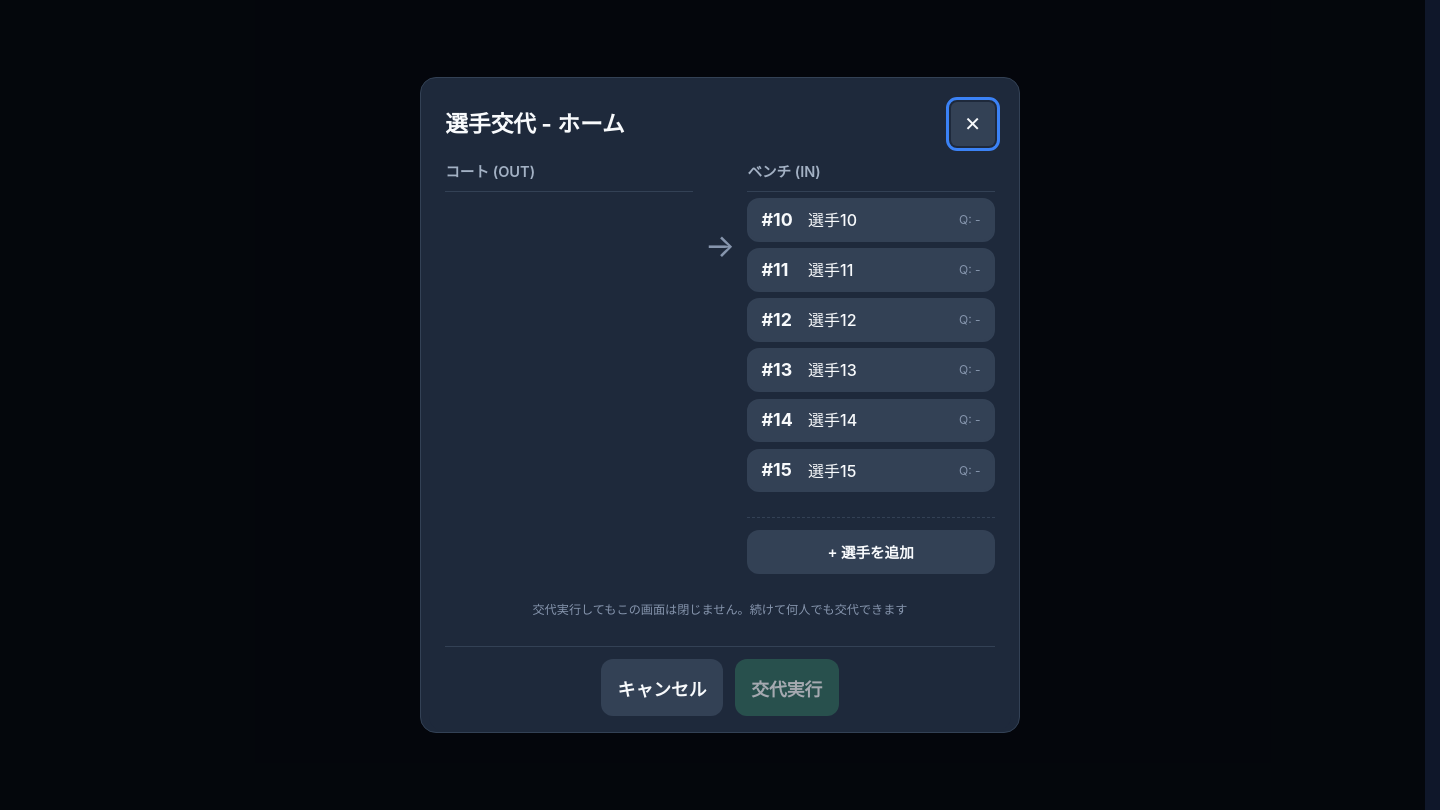
Test: SubstitutionModal: 様式からあふれる選手の案内 › 15人でいちばん大きい番号を入れると、追加する本人が載らないと伝える
Click the button "+ 選手を追加": (871,552) top-left (747, 530), bottom-right (995, 574)
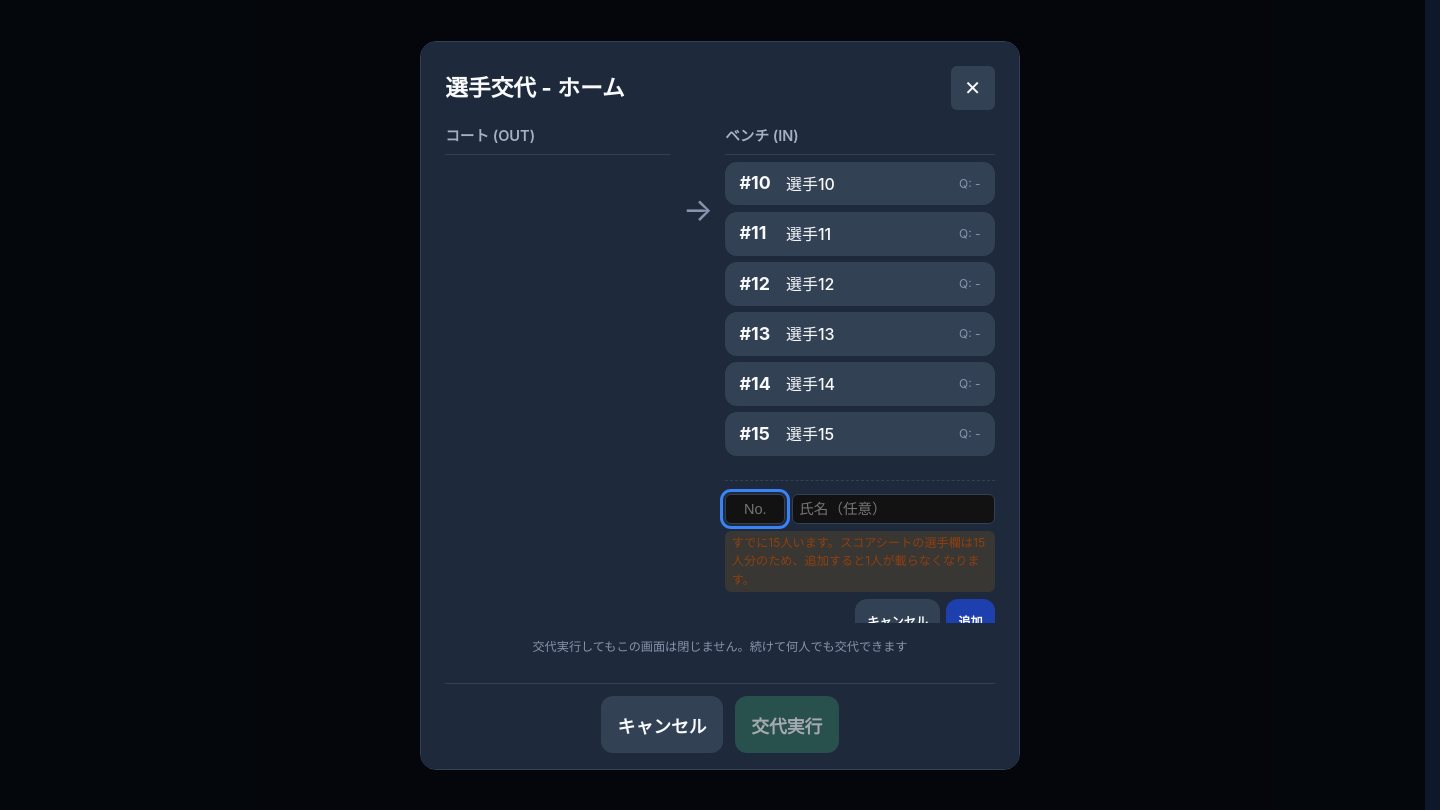
In the field with placeholder "No.": (755,509) top-left (725, 494), bottom-right (785, 524), type "99"
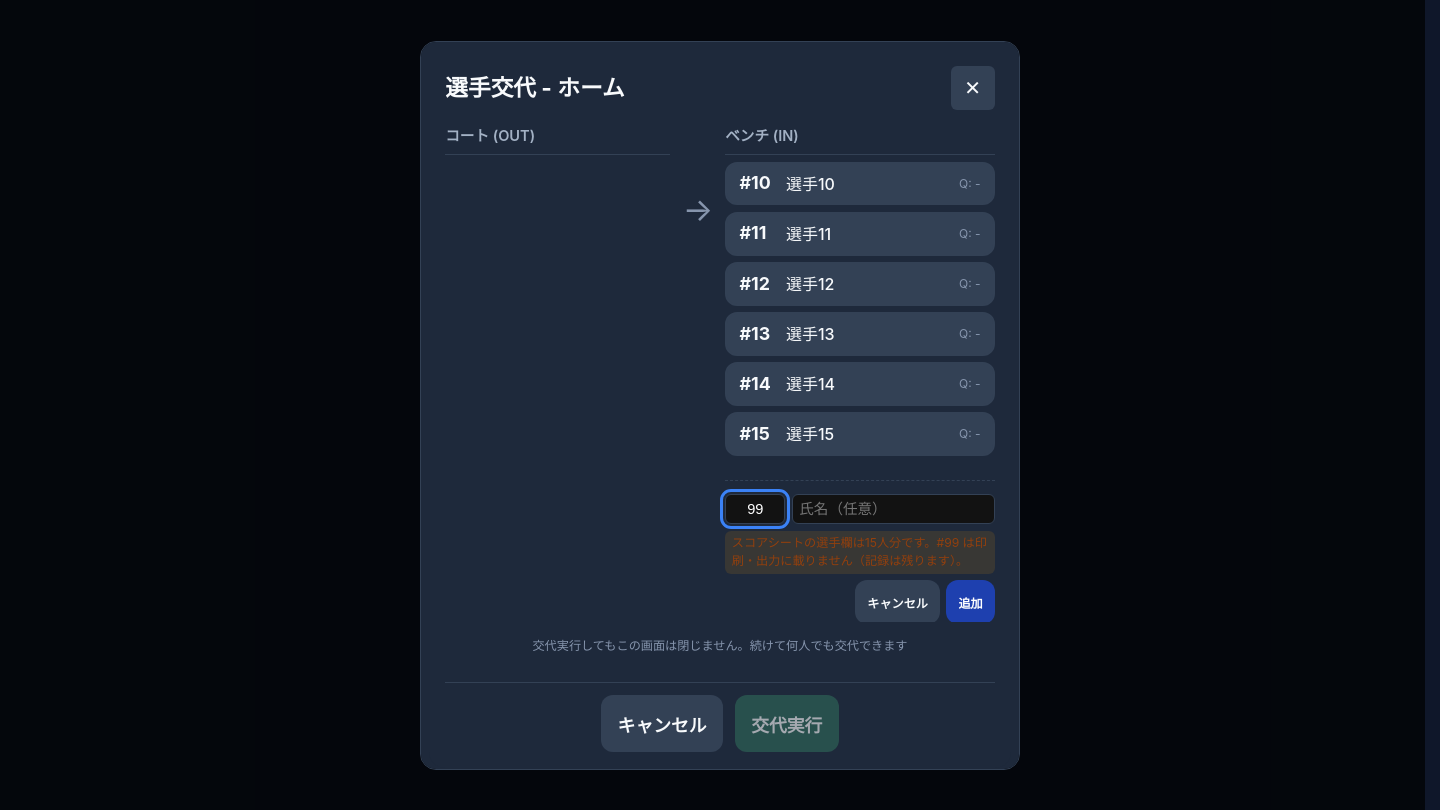
Check: the message with class "add-player-notice" shows "99", box top-left (732, 535), bottom-right (987, 568)
